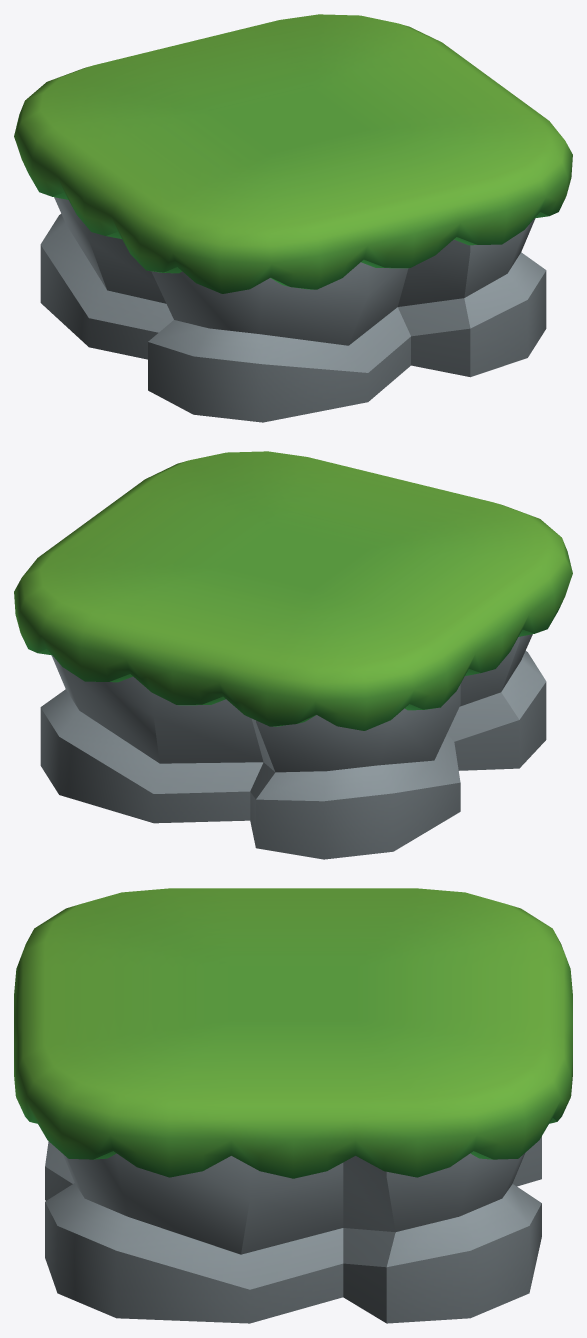
File: Hill_4x4x2_Color1.gltf
The picture shows the model from 3 angles, top to bottom: view 1: azimuth 30°, elevation 25°; view 2: azimuth 150°, elevation 25°; view 3: azimuth 270°, elevation 25°; orthographic projection. The views are drawn at different scales.
Visible parts, largest first — view 1: Hill_4x4x2_Color1; view 2: Hill_4x4x2_Color1; view 3: Hill_4x4x2_Color1.
Part boxes in pixels (x1,y1,x2,y2): Hill_4x4x2_Color1: (14, 14, 572, 422); Hill_4x4x2_Color1: (14, 451, 572, 859); Hill_4x4x2_Color1: (14, 888, 572, 1323).
Size of the model in its own units: 4.5 by 2 by 4.5.
Materials: 1 (1 with a texture image).
